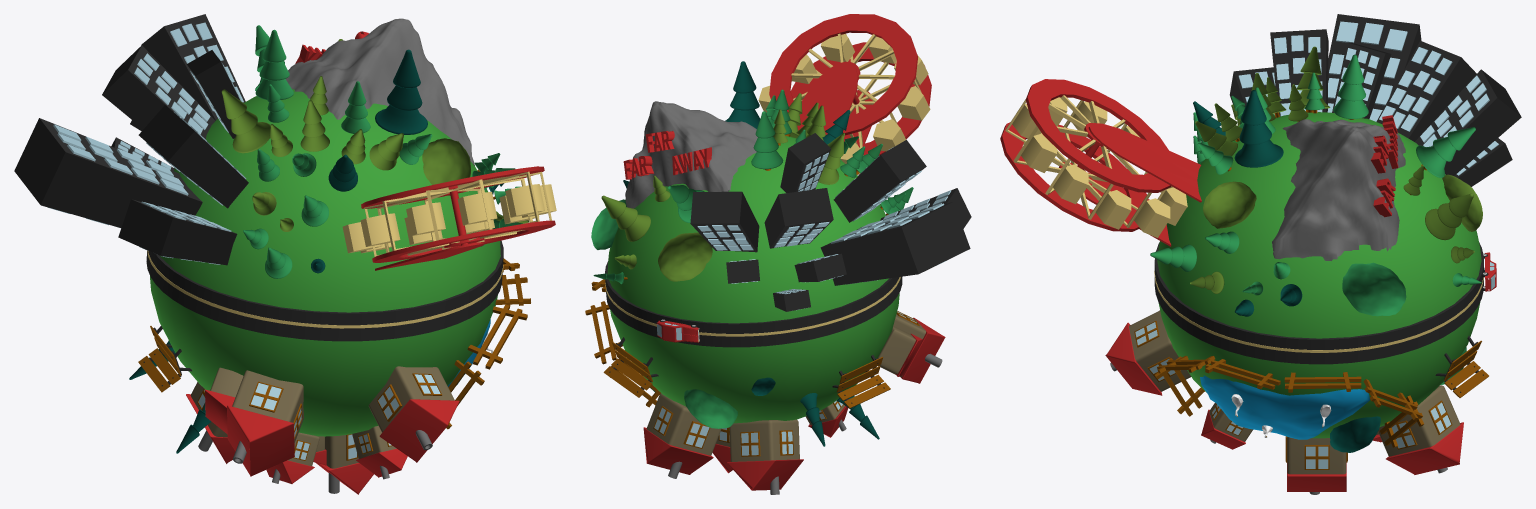
3 views of the same model, side by side, from view 1: azimuth 30°, elevation 25°; view 2: azimuth 150°, elevation 25°; view 3: azimuth 270°, elevation 25° (orthographic). The views are drawn at different scales.
Visible parts, largest first — view 1: Sphere001, Box068, road, mountain, Box054, Cone021, Cone016, Box025, Cone013, Box100, Tube002.001, Box097 (+14 smaller); view 2: Sphere001, Box068, Tube002.001, mountain, road, Cone016, Cone021, Box054, Box025, Cone013, Box067, Box097 (+13 smaller); view 3: Sphere001, Box068, mountain, Cone016, Cone021, Box054, road, Box025, Tube002.001, Sphere002, Box074, Cone013 (+12 smaller).
Part boxes in pixels (bbox=[...]): Sphere001: bbox=[150, 89, 500, 436]; Box068: bbox=[14, 14, 248, 265]; road: bbox=[146, 240, 503, 341]; mountain: bbox=[286, 18, 474, 165]; Box054: bbox=[342, 171, 556, 256]; Cone021: bbox=[221, 39, 528, 231]; Cone016: bbox=[243, 25, 522, 278]; Box025: bbox=[48, 22, 246, 264]; Cone013: bbox=[129, 49, 503, 453]; Box100: bbox=[227, 405, 294, 476]; Tube002.001: bbox=[361, 166, 555, 262]; Box097: bbox=[197, 373, 442, 460]; Sphere001: bbox=[607, 136, 899, 423]; Box068: bbox=[690, 133, 971, 311]; Tube002.001: bbox=[769, 14, 931, 155]; mountain: bbox=[625, 101, 757, 208]; road: bbox=[605, 261, 902, 347]; Cone016: bbox=[591, 89, 913, 428]; Cone021: bbox=[601, 93, 844, 281]; Box054: bbox=[758, 33, 930, 174]; Box025: bbox=[697, 147, 950, 310]; Cone013: bbox=[623, 61, 879, 446]; Box067: bbox=[797, 62, 871, 145]; Box097: bbox=[653, 311, 919, 456]; Sphere001: bbox=[1157, 112, 1481, 438]; Box068: bbox=[1229, 14, 1521, 186]; mountain: bbox=[1272, 119, 1405, 260]; Cone016: bbox=[1150, 54, 1481, 384]; Cone021: bbox=[1190, 46, 1482, 293]; Box054: bbox=[1005, 95, 1187, 237]; road: bbox=[1154, 242, 1483, 364]; Box025: bbox=[1238, 21, 1498, 175]; Tube002.001: bbox=[1000, 79, 1171, 231]; Sphere002: bbox=[1200, 375, 1370, 439]; Box074: bbox=[1154, 355, 1423, 447]; Cone013: bbox=[1193, 90, 1380, 452].
Bounding box in the file's own units: 2.84 × 2.74 × 3.07.
